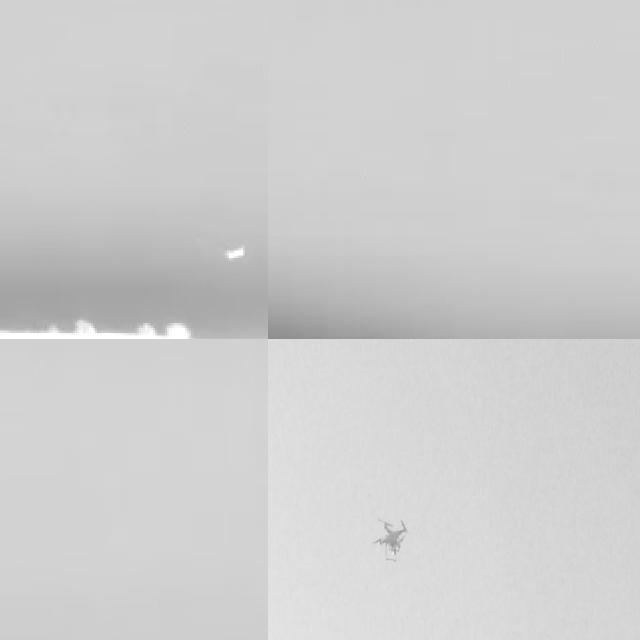1: (214, 240, 260, 274)
drone: (371, 514, 409, 565)
